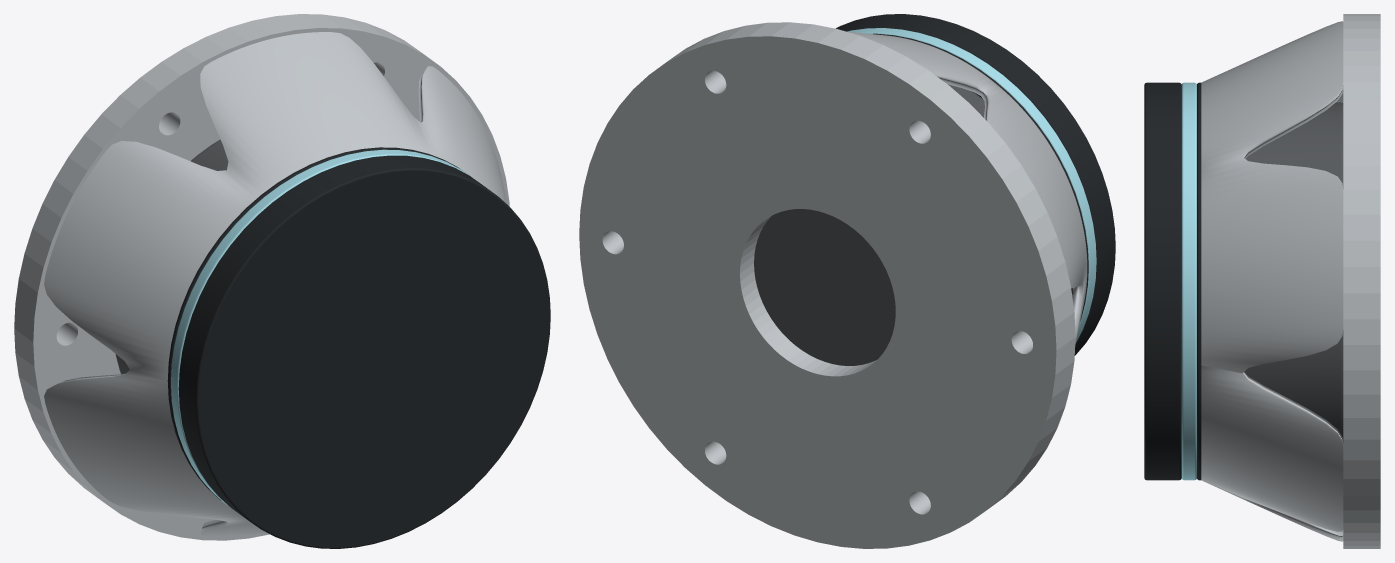
The model's file is base_link_inertia.obj.
3 views of the same model, side by side, from view 1: azimuth 30°, elevation 25°; view 2: azimuth 150°, elevation 25°; view 3: azimuth 270°, elevation 25° (orthographic). The views are drawn at different scales.
Visible parts, largest first — view 1: yaw_seal, base_access_skirt, base_mounting_plate, base_status_ring, indicator_lower_seal, base_core; view 2: base_mounting_plate, base_core, base_access_skirt, yaw_seal, base_status_ring, indicator_lower_seal; view 3: base_access_skirt, base_mounting_plate, yaw_seal, base_core, base_status_ring, indicator_lower_seal.
Part boxes in pixels (x1=…): yaw_seal: x1=178, y1=155, x2=550, y2=548; base_access_skirt: x1=44, y1=32, x2=507, y2=536; base_mounting_plate: x1=14, y1=14, x2=509, y2=540; base_status_ring: x1=171, y1=149, x2=476, y2=506; indicator_lower_seal: x1=167, y1=147, x2=459, y2=500; base_core: x1=115, y1=139, x2=228, y2=374; base_mounting_plate: x1=579, y1=22, x2=1075, y2=548; base_core: x1=754, y1=84, x2=984, y2=365; base_access_skirt: x1=847, y1=31, x2=1087, y2=343; yaw_seal: x1=836, y1=14, x2=1115, y2=355; base_status_ring: x1=847, y1=28, x2=1096, y2=343; indicator_lower_seal: x1=873, y1=33, x2=1088, y2=320; base_access_skirt: x1=1201, y1=21, x2=1343, y2=541; base_mounting_plate: x1=1343, y1=14, x2=1380, y2=548; yaw_seal: x1=1144, y1=82, x2=1181, y2=480; base_core: x1=1245, y1=102, x2=1343, y2=441; base_status_ring: x1=1181, y1=82, x2=1196, y2=480; indicator_lower_seal: x1=1197, y1=82, x2=1201, y2=480.
Bounding box in the file's own units: 0.245 × 0.245 × 0.108.
